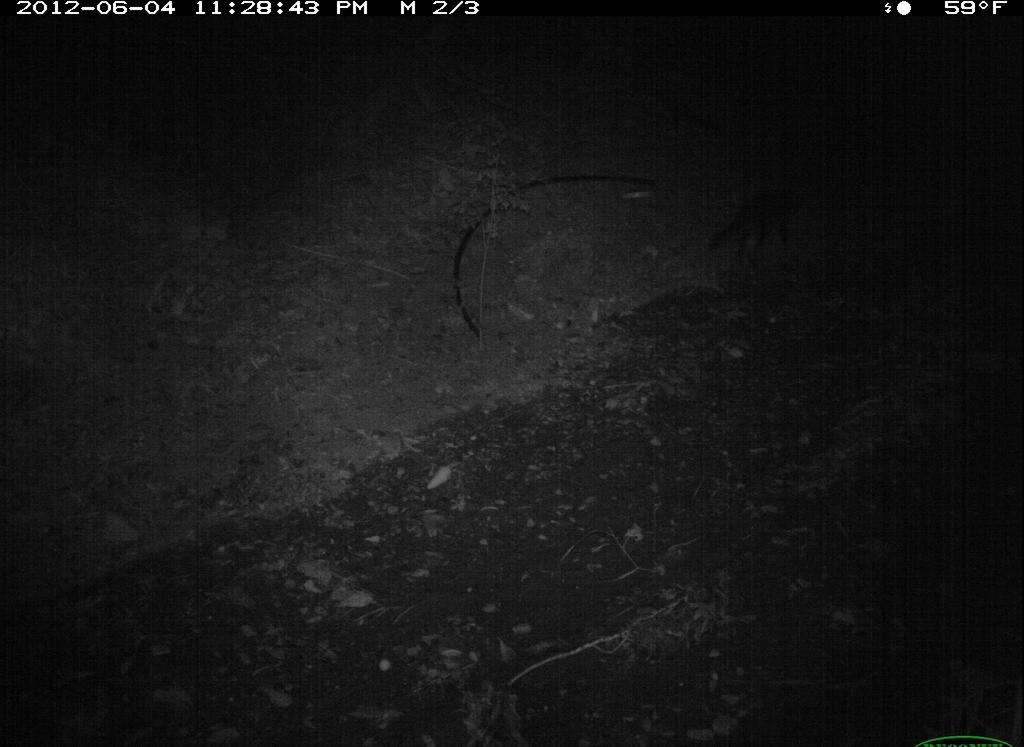cat: (711, 187, 811, 291)
